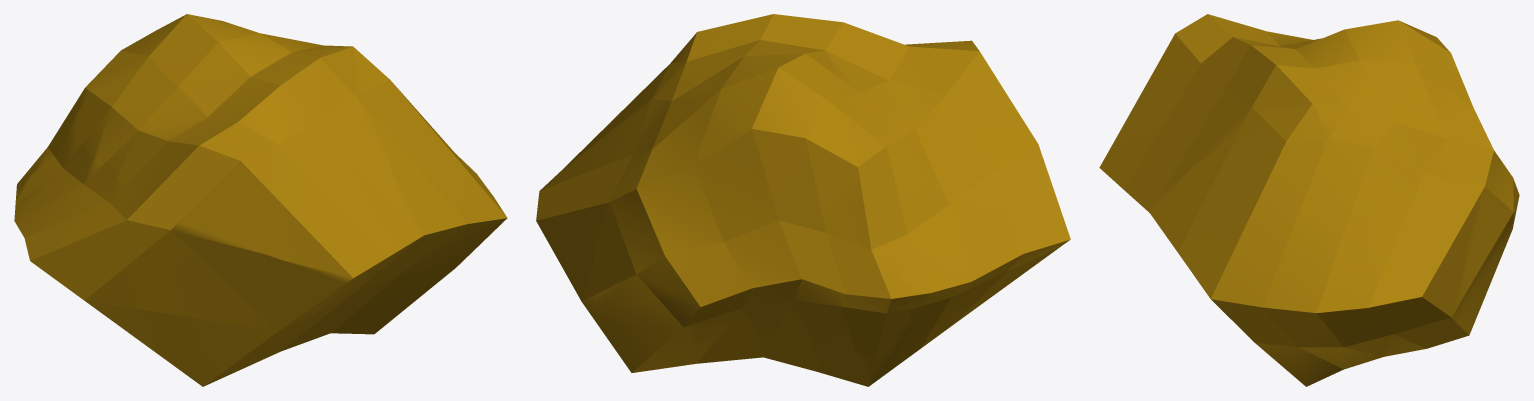
Rendered from rock1_shattered.fbx.
The picture shows the model from 3 angles, left to right: view 1: azimuth 30°, elevation 25°; view 2: azimuth 150°, elevation 25°; view 3: azimuth 270°, elevation 25°; orthographic projection. The views are drawn at different scales.
Visible parts, largest first — view 1: shard10, shard13, shard7, shard6, shard12, shard11, shard9, shard8; view 2: shard9, shard7, shard10, shard12, shard8, shard6; view 3: shard6, shard12, shard10, shard9, shard8, shard11.
Boxes of the visible parts, bbox=[...] form: shard10: bbox=[67, 65, 410, 283]; shard13: bbox=[150, 213, 372, 386]; shard7: bbox=[14, 134, 256, 367]; shard6: bbox=[350, 46, 507, 334]; shard12: bbox=[72, 14, 371, 141]; shard11: bbox=[254, 101, 408, 363]; shard9: bbox=[16, 109, 74, 191]; shard8: bbox=[308, 298, 369, 341]; shard9: bbox=[599, 64, 913, 358]; shard7: bbox=[880, 125, 1070, 352]; shard10: bbox=[811, 18, 1025, 213]; shard12: bbox=[678, 14, 874, 196]; shard8: bbox=[590, 151, 914, 386]; shard6: bbox=[536, 31, 699, 331]; shard6: bbox=[1140, 102, 1468, 386]; shard12: bbox=[1214, 20, 1460, 126]; shard10: bbox=[1099, 14, 1321, 204]; shard9: bbox=[1342, 78, 1519, 221]; shard8: bbox=[1385, 180, 1513, 356]; shard11: bbox=[1145, 116, 1254, 200].
Bounding box in the file's own units: 2.94 × 1.93 × 2.44.
